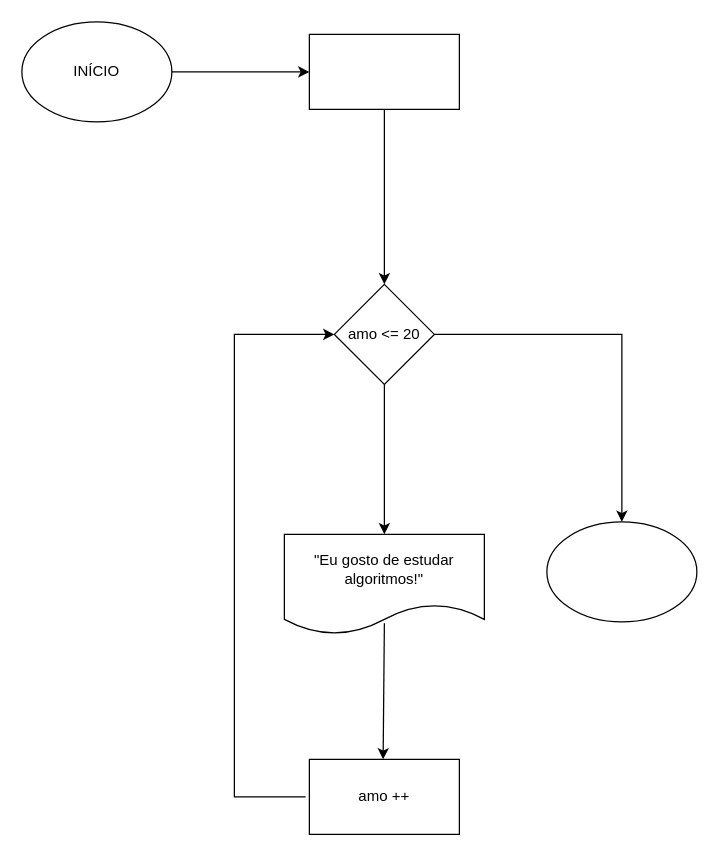
Some shapes in this 719 by 856 pixel diagram are drawn without their labels. Here are the shapes that lost their labels. From the top down, the centre of each, then its label:
[383,71]: amo = 1
[621,571]: FIM
